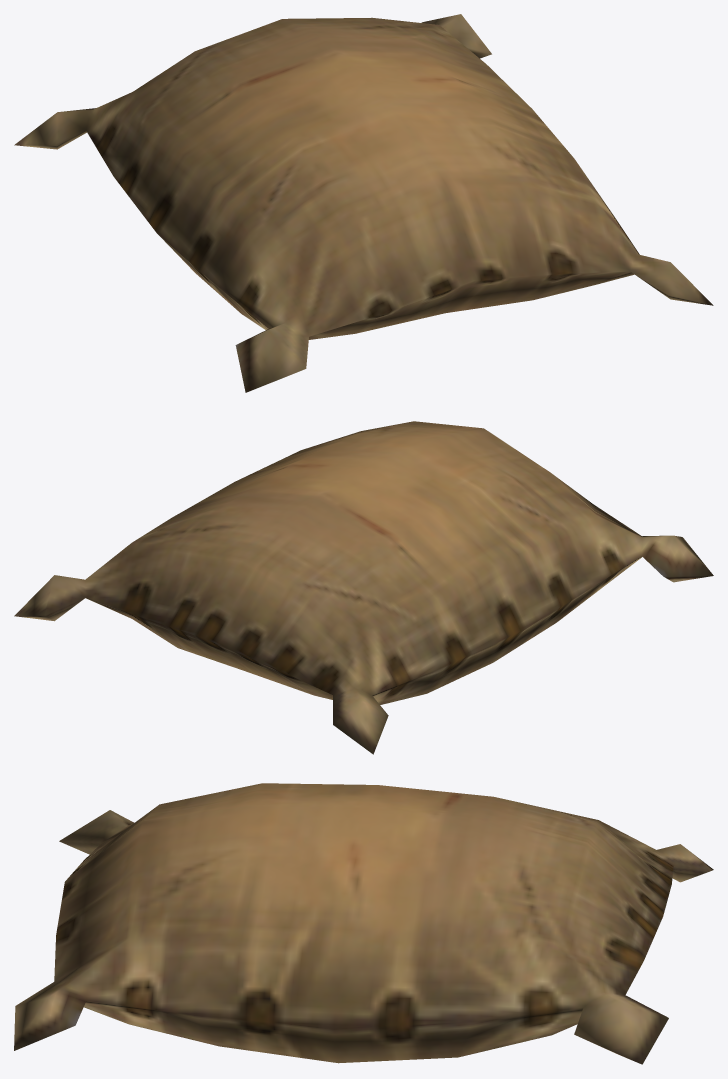
Rendered from Anmaodao_miandaizi.FBX.
3 views of the same model, one above another, from view 1: azimuth 30°, elevation 25°; view 2: azimuth 150°, elevation 25°; view 3: azimuth 270°, elevation 25° (orthographic). The views are drawn at different scales.
Parts seen in each view (by area): view 1: Anmaodao_miandaizi; view 2: Anmaodao_miandaizi; view 3: Anmaodao_miandaizi.
Boxes of the visible parts, <box> form: Anmaodao_miandaizi: <box>14,14,713,392</box>; Anmaodao_miandaizi: <box>14,421,713,754</box>; Anmaodao_miandaizi: <box>14,783,713,1064</box>.
Bounding box in the file's own units: 37.53 × 43.54 × 12.14.
